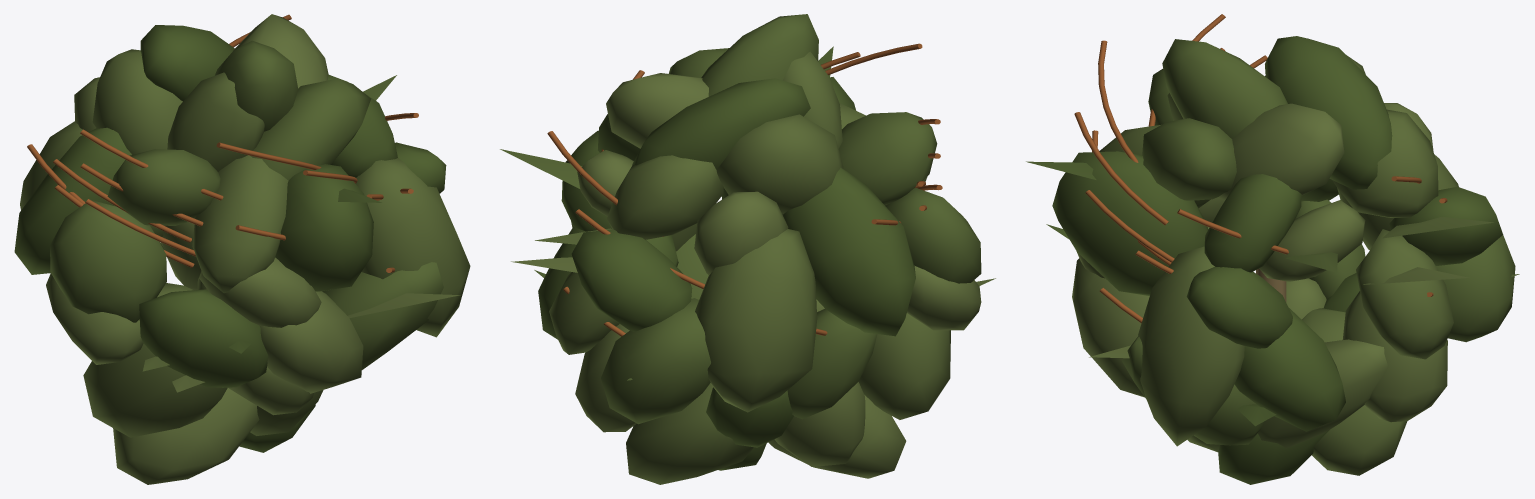
Rendered from bud_0.glb.
The picture shows the model from 3 angles, left to right: view 1: azimuth 30°, elevation 25°; view 2: azimuth 150°, elevation 25°; view 3: azimuth 270°, elevation 25°; orthographic projection. The views are drawn at different scales.
Visible parts, largest first — view 1: Bud_0; view 2: Bud_0; view 3: Bud_0.
Part boxes in pixels (x1,y1,x2,y2): Bud_0: (14, 14, 470, 484); Bud_0: (500, 14, 995, 484); Bud_0: (1026, 14, 1519, 484).
Bounding box in the file's own units: 0.00532 × 0.00527 × 0.00557.
